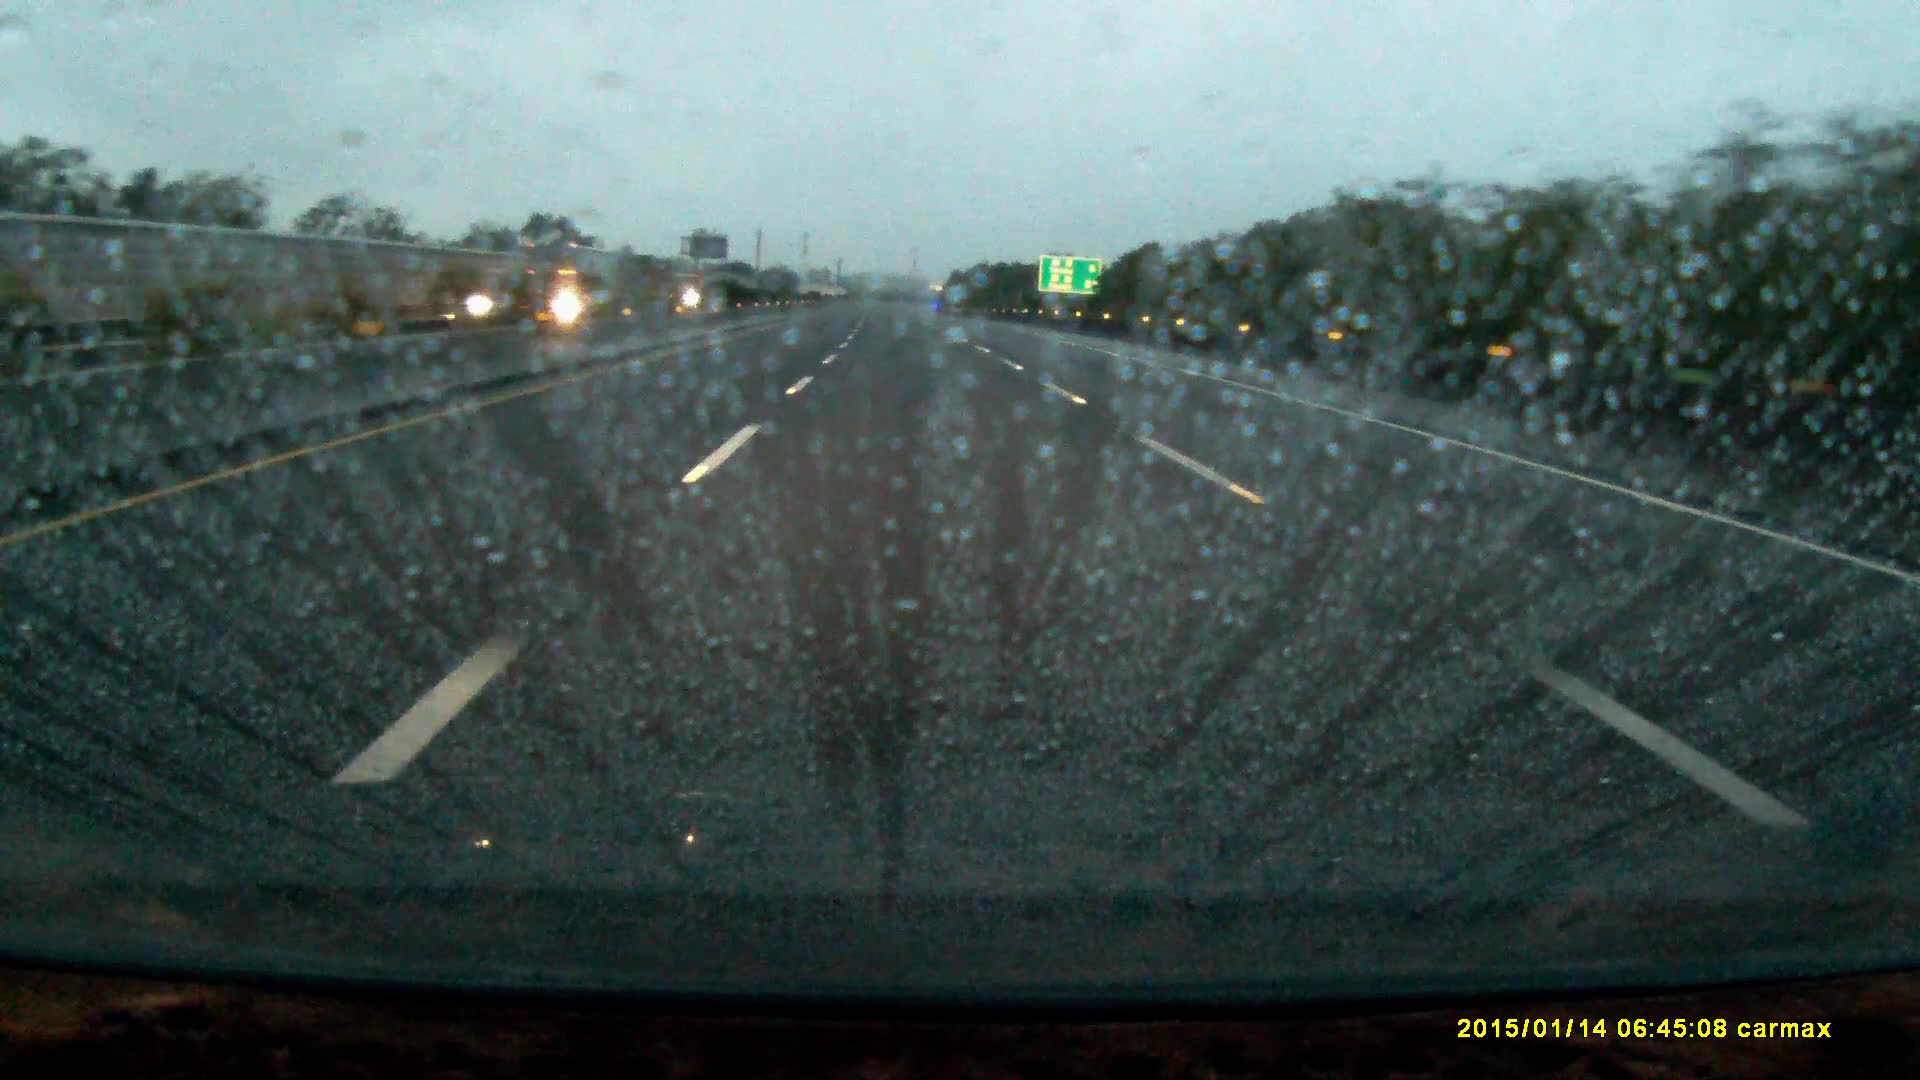vehicle: (527, 243, 622, 319), (435, 285, 514, 328)
